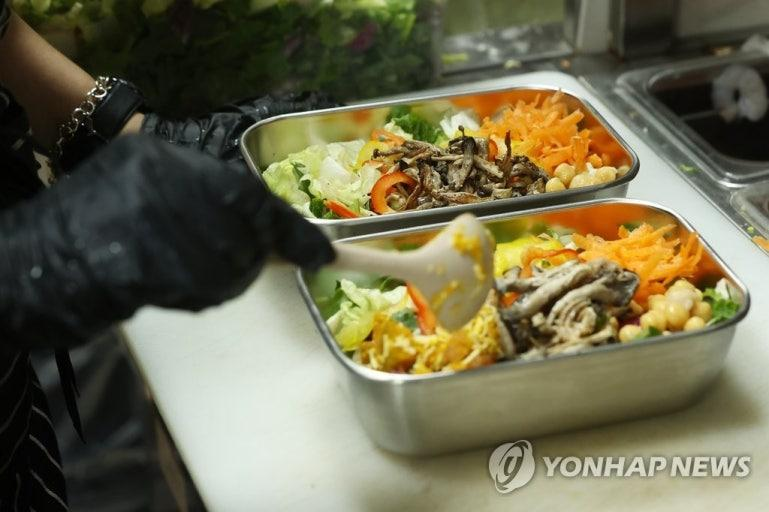Lunch Box: (297, 197, 749, 455), (241, 86, 639, 237)
